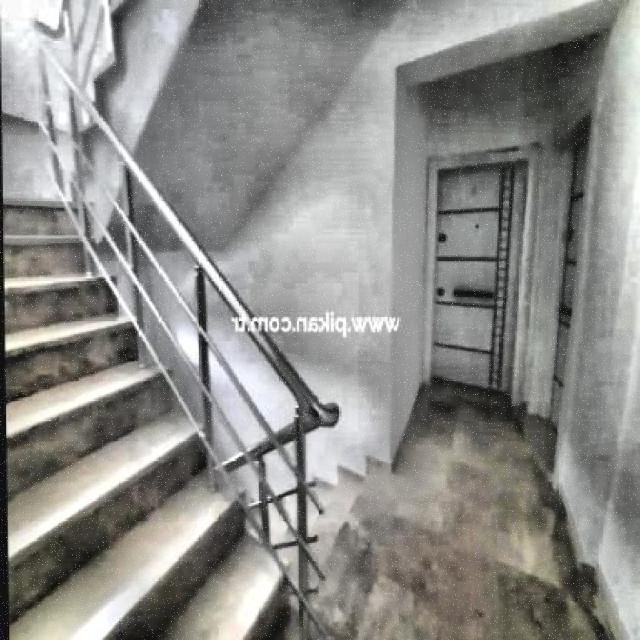stair: (2, 164, 308, 640)
